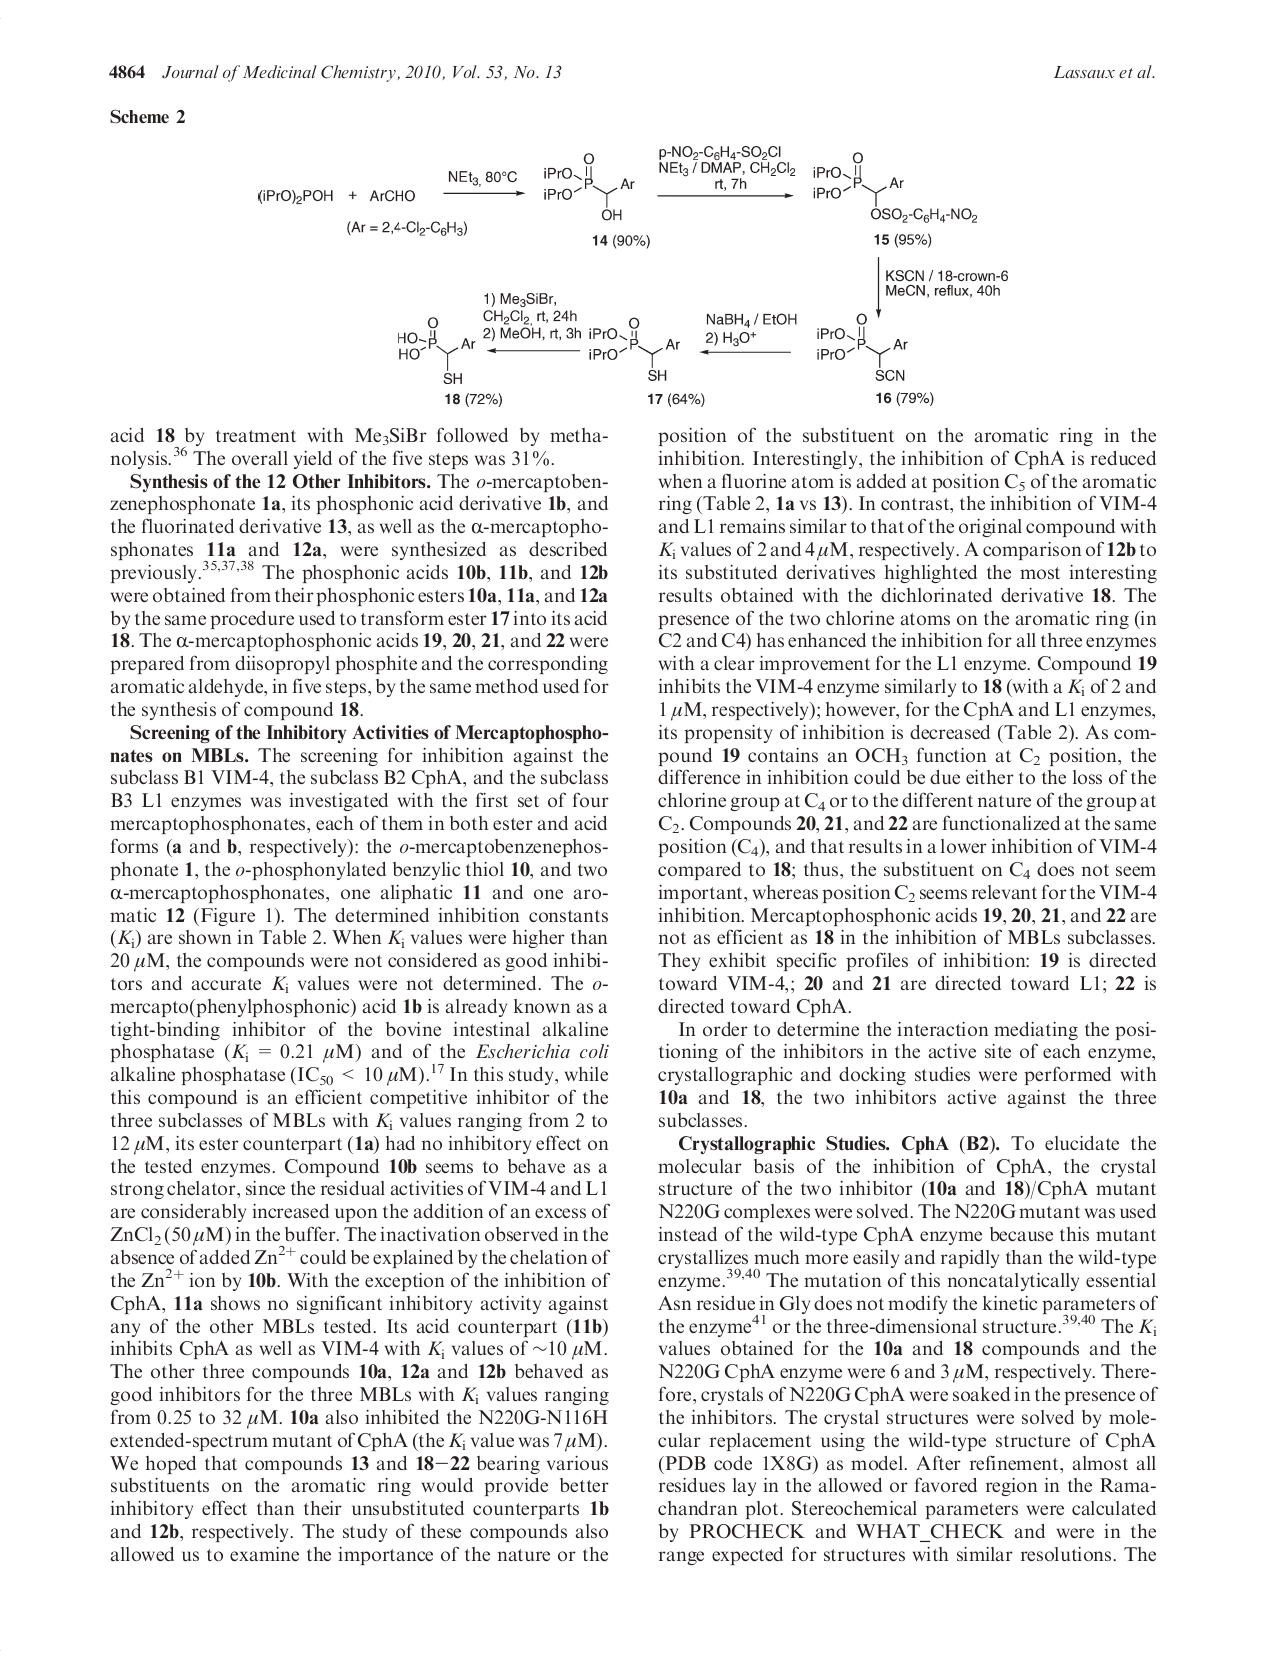exist_molecular: (809, 148, 983, 230), (585, 303, 688, 391), (811, 310, 923, 390), (541, 138, 637, 227), (387, 310, 477, 387)
